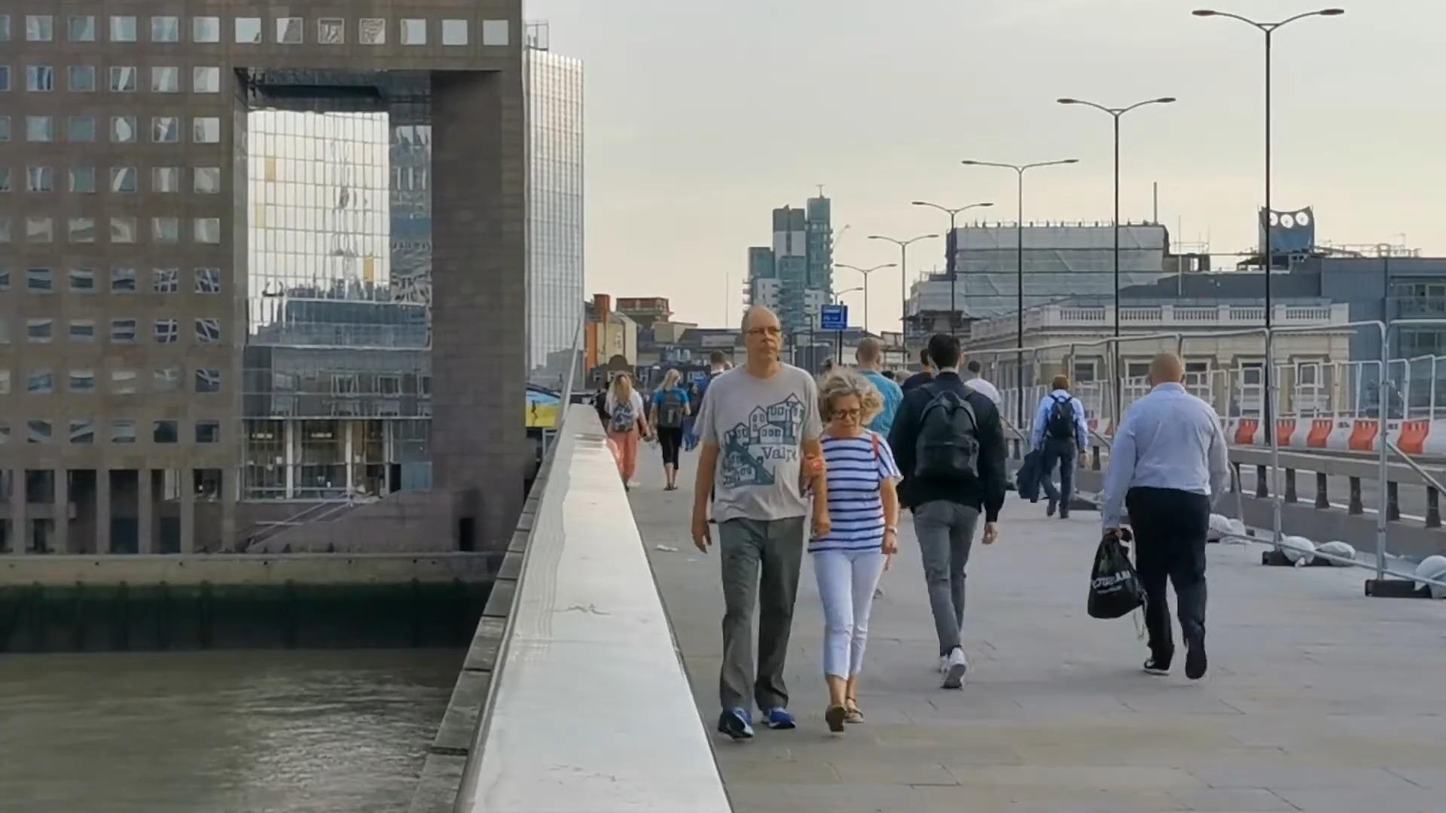no-helmet: (815, 364, 882, 426), (741, 304, 784, 365), (927, 331, 964, 374), (1148, 353, 1186, 387), (855, 337, 881, 368), (610, 370, 631, 396), (661, 368, 681, 389), (710, 349, 726, 370)
